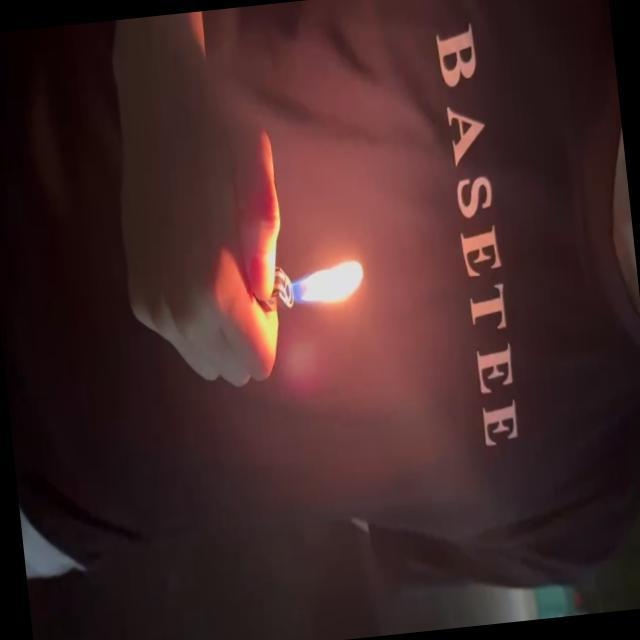Fire: (282, 259, 369, 319)
